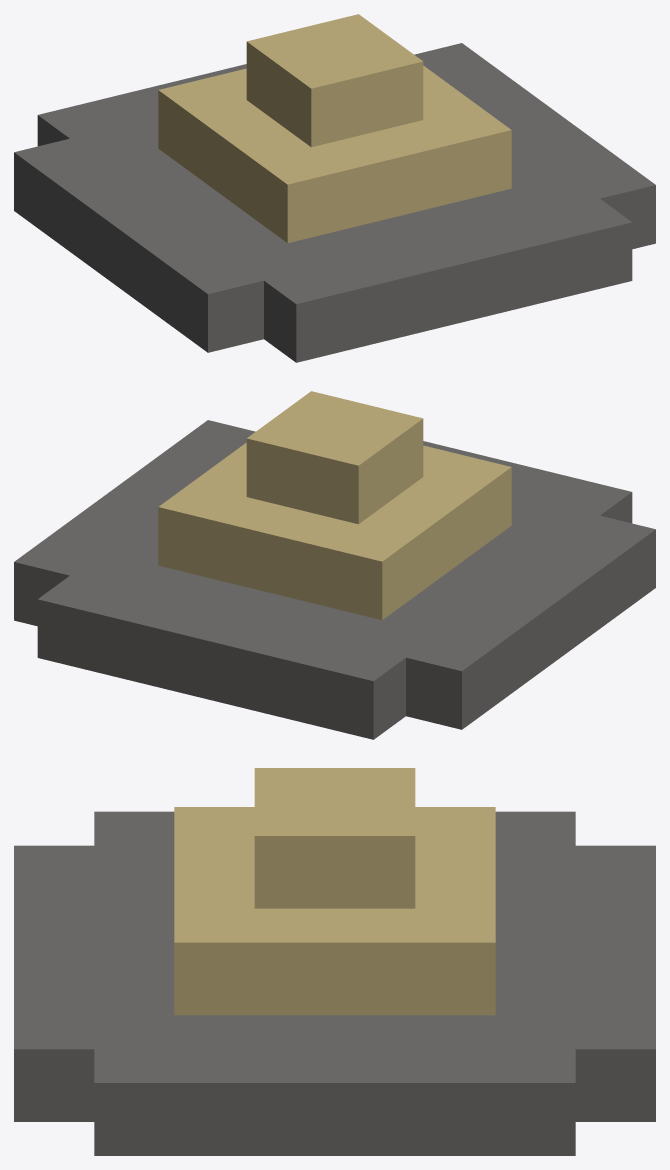
Rendered from crest.glb.
3 renders of one model, top to bottom at view 1: azimuth 30°, elevation 25°; view 2: azimuth 150°, elevation 25°; view 3: azimuth 270°, elevation 25°, orthographic. The views are drawn at different scales.
Size of the model in its own units: 8 by 3 by 8.
